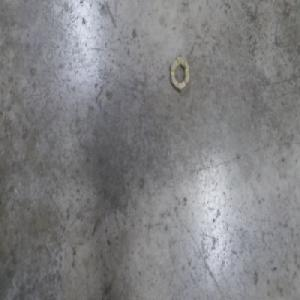Nut: (169, 52, 190, 93)
